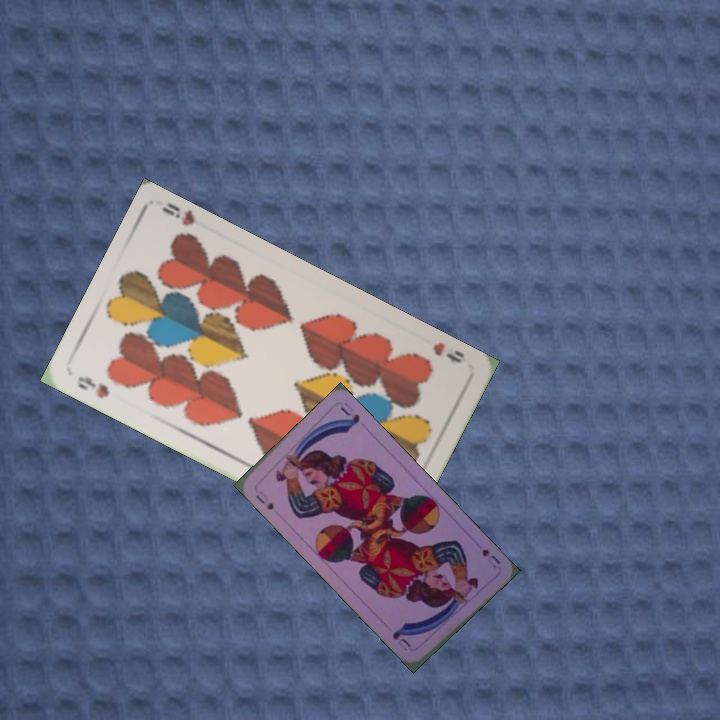H9: (73, 372, 112, 401), (428, 338, 467, 366)
SU: (478, 545, 503, 571), (251, 487, 277, 512)
